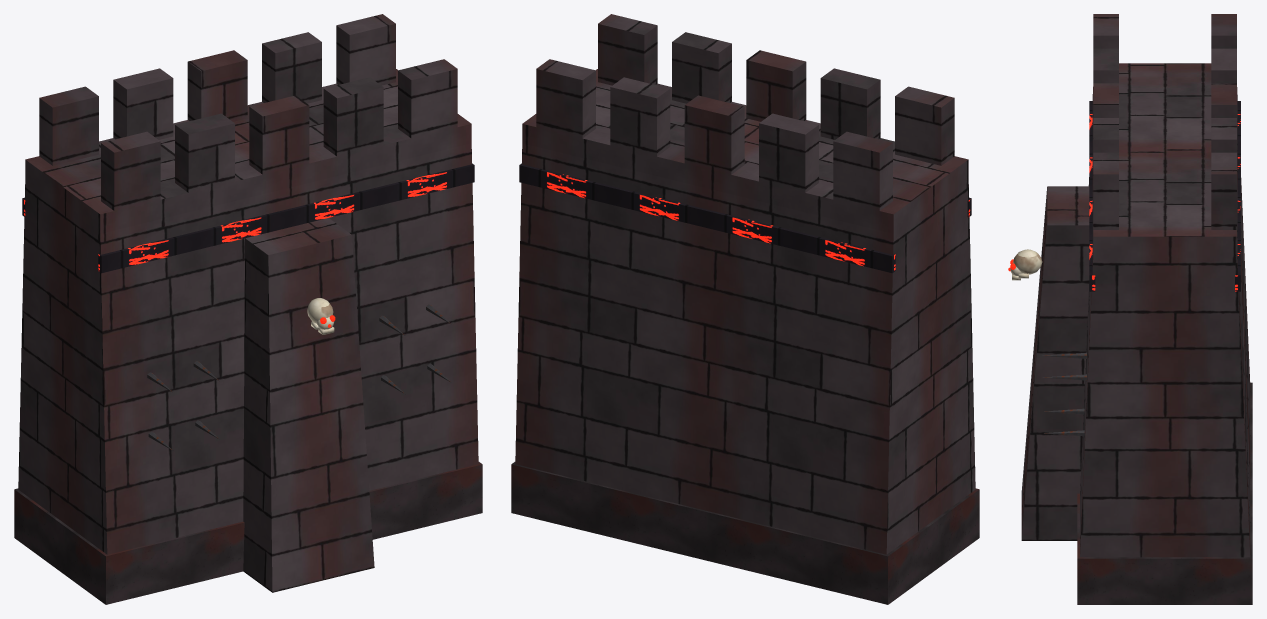
File: fortress_wall.glb
The picture shows the model from 3 angles, left to right: view 1: azimuth 30°, elevation 25°; view 2: azimuth 150°, elevation 25°; view 3: azimuth 270°, elevation 25°; orthographic projection. The views are drawn at different scales.
Parts seen in each view (by area): view 1: WallStone, WallPlinth, WallBand, WallSpikes, WallSkull; view 2: WallStone, WallPlinth, WallBand; view 3: WallStone, WallPlinth, WallBand, WallSkull, WallSpikes.
Part boxes in pixels (bbox=[...]): WallStone: bbox=[18, 14, 478, 592]; WallPlinth: bbox=[14, 462, 482, 604]; WallBand: bbox=[22, 163, 474, 273]; WallSpikes: bbox=[147, 304, 451, 450]; WallSkull: bbox=[307, 298, 334, 334]; WallStone: bbox=[515, 14, 975, 554]; WallPlinth: bbox=[511, 462, 979, 604]; WallBand: bbox=[519, 163, 971, 273]; WallStone: bbox=[1021, 14, 1250, 557]; WallPlinth: bbox=[1077, 382, 1252, 604]; WallBand: bbox=[1089, 101, 1240, 291]; WallSkull: bbox=[1010, 249, 1042, 280]; WallSpikes: bbox=[1042, 352, 1086, 436].
Size of what is drawn, in the model's own units: 8.12 by 9.1 by 4.77.
6 materials, 5 textured.
